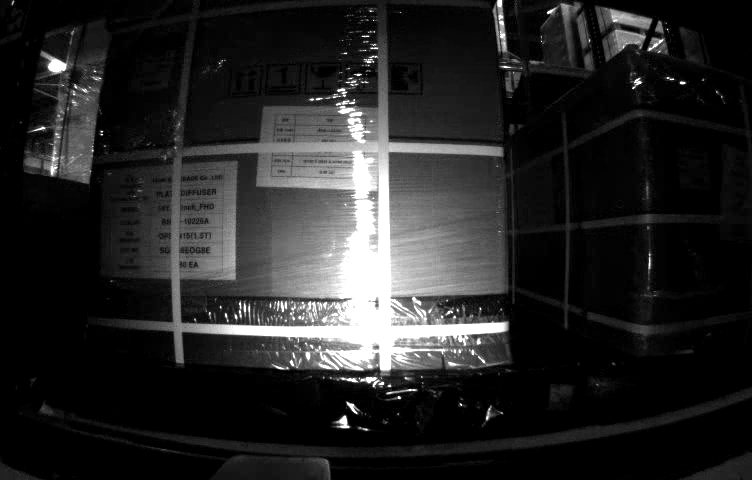True Barcode: (134, 52, 171, 89), (677, 153, 713, 189)
